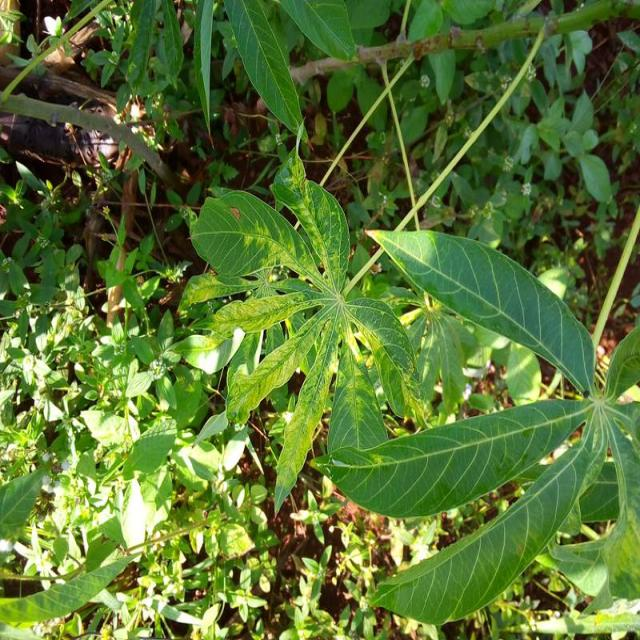cassava leaf: (186, 150, 420, 516), (366, 409, 604, 626), (363, 226, 596, 396), (310, 396, 594, 518)
